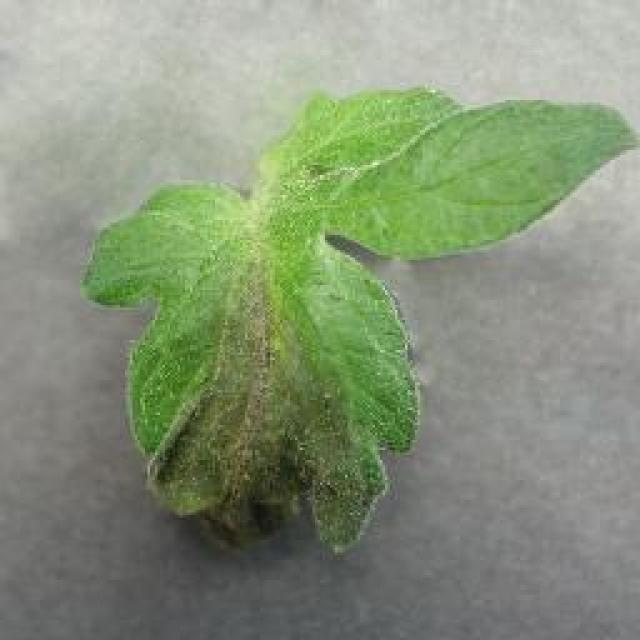Tomato Late Blight: (190, 177, 402, 545)
